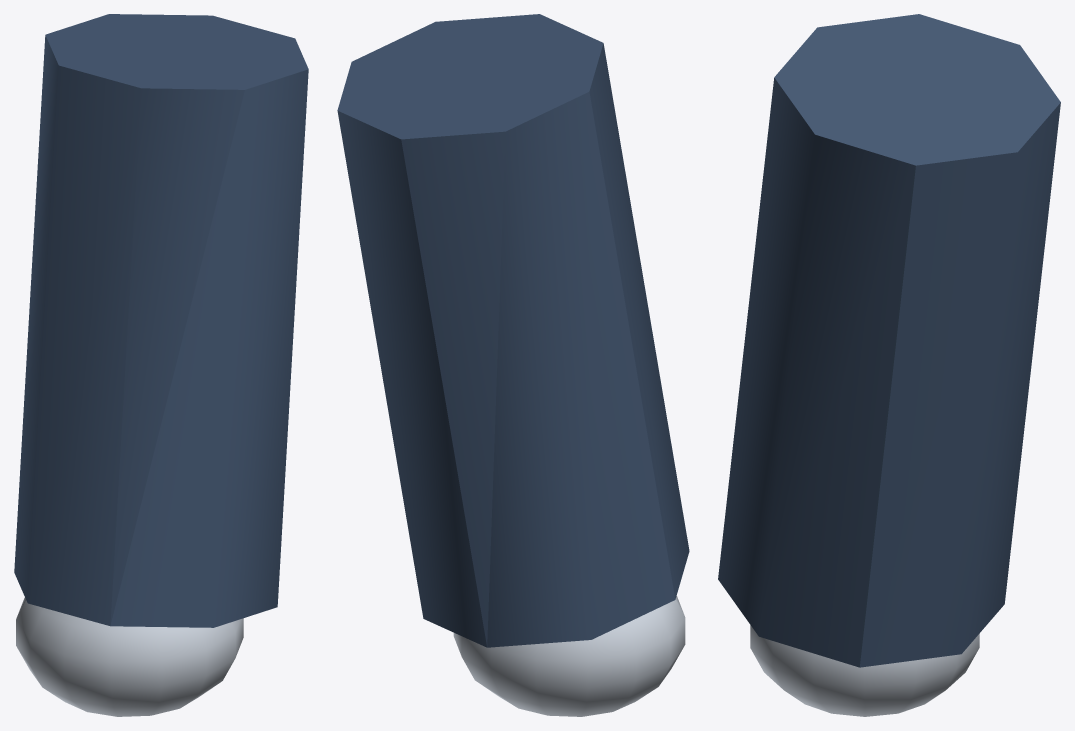
The model's file is LeftArm.glb.
The picture shows the model from 3 angles, left to right: view 1: azimuth 30°, elevation 25°; view 2: azimuth 150°, elevation 25°; view 3: azimuth 270°, elevation 25°; orthographic projection. The views are drawn at different scales.
Parts seen in each view (by area): view 1: plate, gauntlet; view 2: plate, gauntlet; view 3: plate, gauntlet.
Boxes of the visible parts, x1,y1,x2,y2 form: plate: [14, 14, 308, 627]; gauntlet: [16, 597, 243, 716]; plate: [337, 14, 689, 647]; gauntlet: [453, 596, 685, 716]; plate: [718, 14, 1060, 667]; gauntlet: [750, 625, 979, 716].
Size of the model in its own units: 1.01 by 2.1 by 0.9763.
